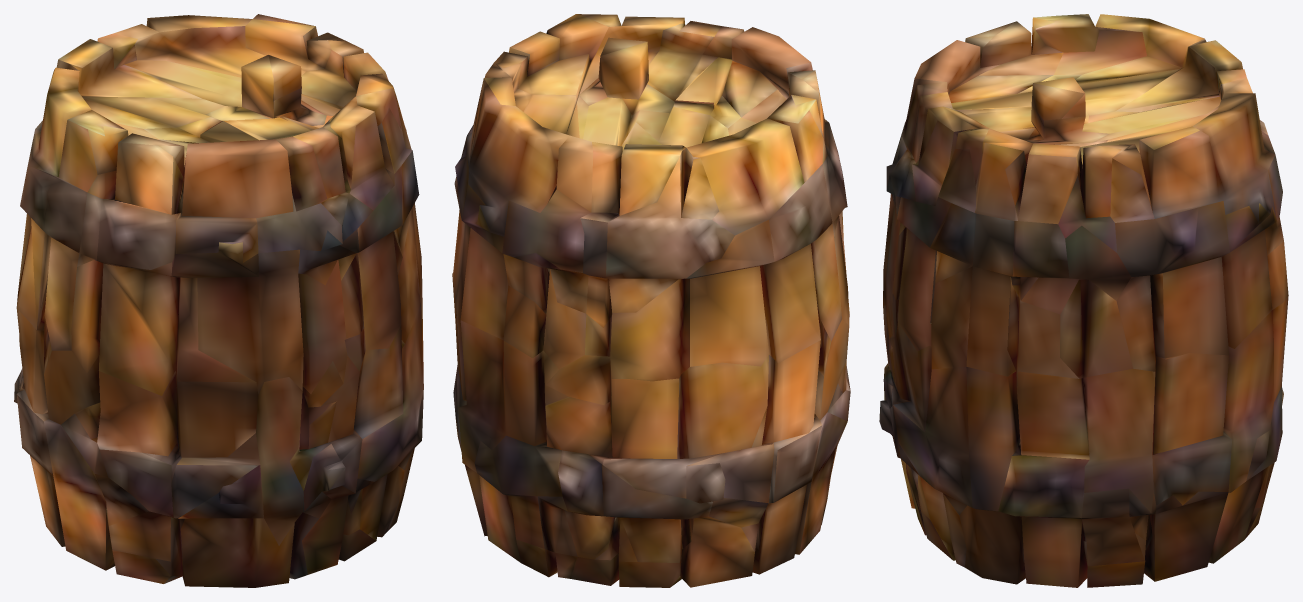
The model's file is barrel.glb.
3 views of the same model, side by side, from view 1: azimuth 30°, elevation 25°; view 2: azimuth 150°, elevation 25°; view 3: azimuth 270°, elevation 25° (orthographic).
Parts seen in each view (by area): view 1: tripo_node_948ffaf0-4312-426d-8653-a2aa4364e849; view 2: tripo_node_948ffaf0-4312-426d-8653-a2aa4364e849; view 3: tripo_node_948ffaf0-4312-426d-8653-a2aa4364e849.
Boxes of the visible parts, x1,y1,x2,y2 form: tripo_node_948ffaf0-4312-426d-8653-a2aa4364e849: [14, 14, 423, 587]; tripo_node_948ffaf0-4312-426d-8653-a2aa4364e849: [452, 14, 850, 587]; tripo_node_948ffaf0-4312-426d-8653-a2aa4364e849: [879, 14, 1288, 587].
Size of the model in its own units: 0.7931 by 0.9779 by 0.8084.
1 material, 1 textured.
